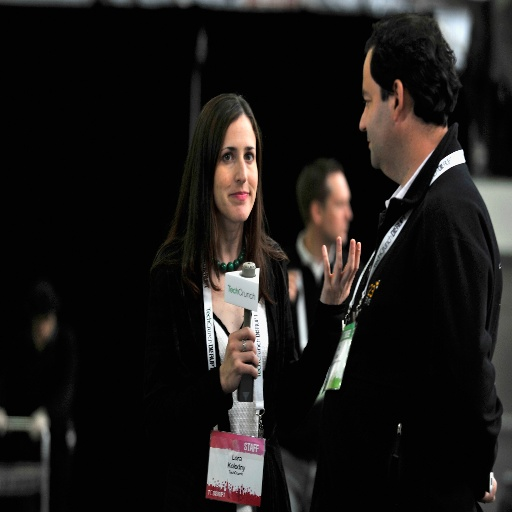hand: (216, 327, 260, 401), (322, 236, 360, 305), (477, 476, 495, 504), (287, 269, 299, 299)
